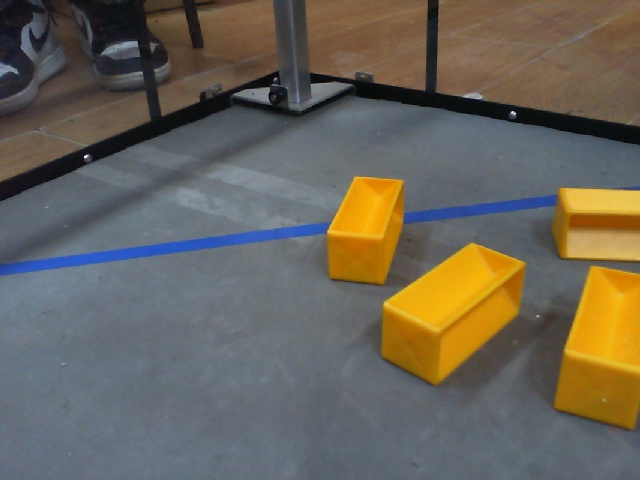YellowSample: (377, 243, 530, 390), (549, 261, 640, 434), (323, 173, 404, 292), (551, 180, 640, 265)
